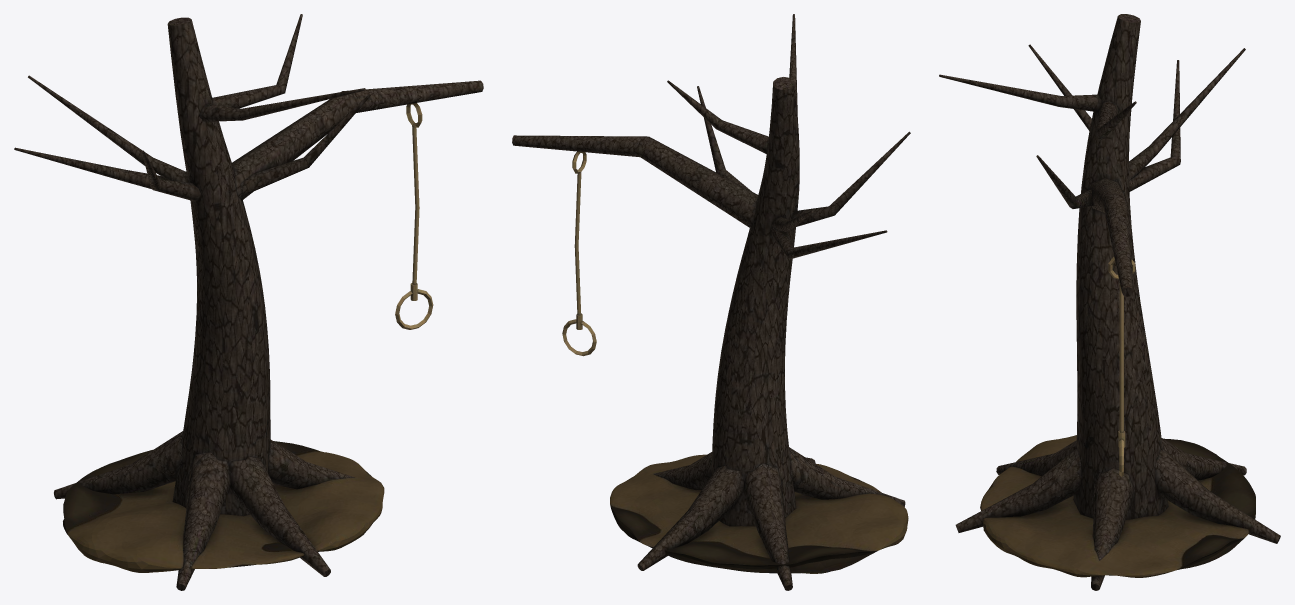
Rendered from mata_arvore_forca_b.glb.
3 views of the same model, side by side, from view 1: azimuth 30°, elevation 25°; view 2: azimuth 150°, elevation 25°; view 3: azimuth 270°, elevation 25° (orthographic). The views are drawn at different scales.
Parts seen in each view (by area): view 1: mata_arvore_forca_b_tronco; view 2: mata_arvore_forca_b_tronco; view 3: mata_arvore_forca_b_tronco.
Part boxes in pixels (box(x1,y1,x2,y2)): mata_arvore_forca_b_tronco: box(14, 14, 483, 590); mata_arvore_forca_b_tronco: box(512, 14, 910, 590); mata_arvore_forca_b_tronco: box(939, 14, 1280, 590).
Bounding box in the file's own units: 4.14 × 4.65 × 2.89.
Materials: 1 (1 with a texture image).
